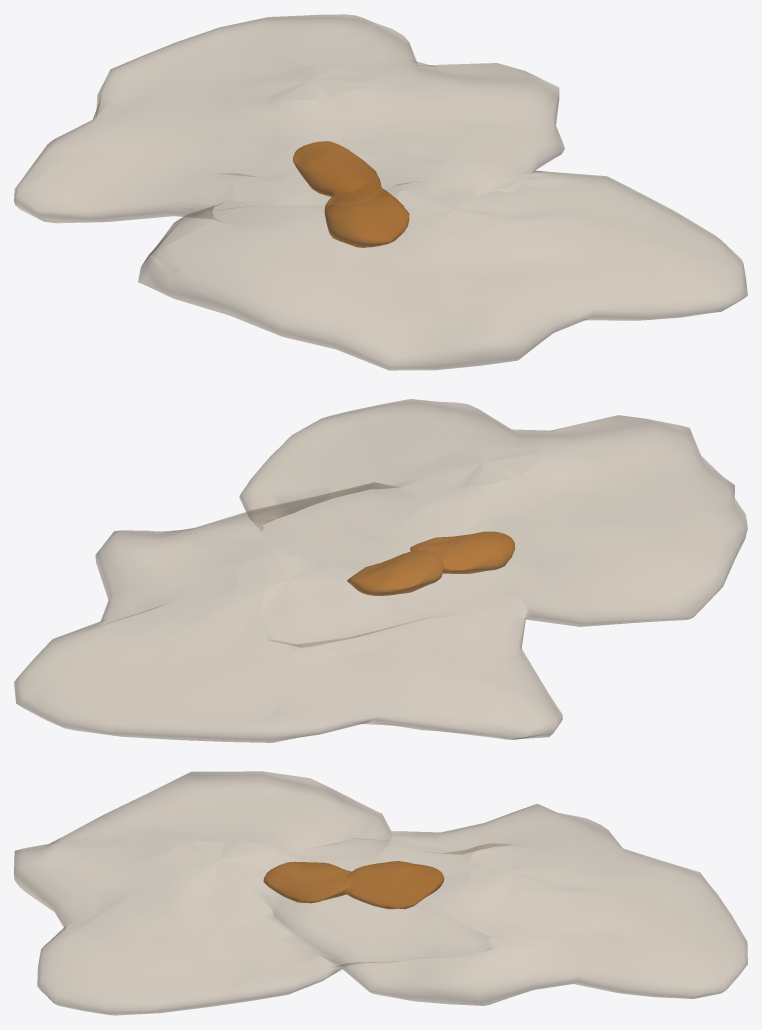
Rendered from simple binary fission in amoeba 2.gltf.
The picture shows the model from 3 angles, top to bottom: view 1: azimuth 30°, elevation 25°; view 2: azimuth 150°, elevation 25°; view 3: azimuth 270°, elevation 25°; orthographic projection. The views are drawn at different scales.
Parts seen in each view (by area): view 1: Sphere.002, Sphere.003; view 2: Sphere.002, Sphere.003; view 3: Sphere.002, Sphere.003.
Boxes of the visible parts, x1,y1,x2,y2 form: Sphere.002: [14, 14, 747, 370]; Sphere.003: [293, 141, 409, 247]; Sphere.002: [14, 399, 747, 742]; Sphere.003: [347, 531, 514, 595]; Sphere.002: [14, 771, 747, 1015]; Sphere.003: [263, 861, 444, 909].
Bounding box in the file's own units: 9.28 × 1.57 × 13.61.
